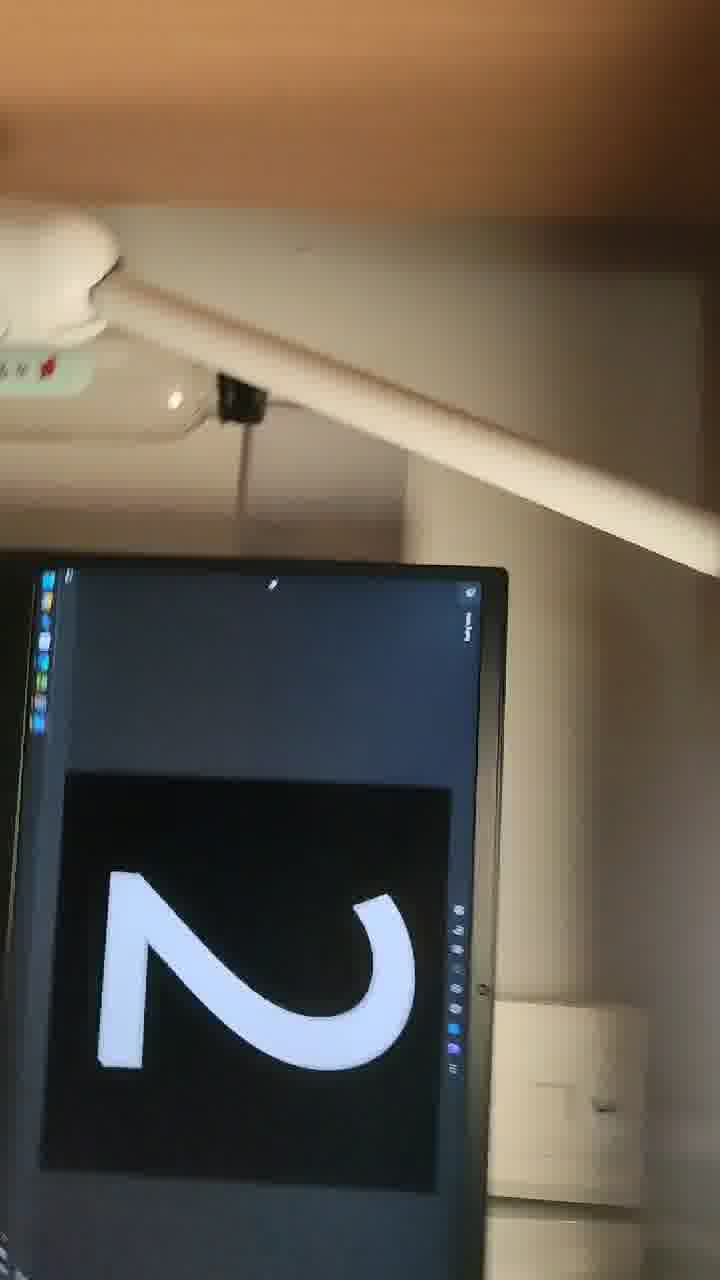two: (46, 794, 571, 1280)
